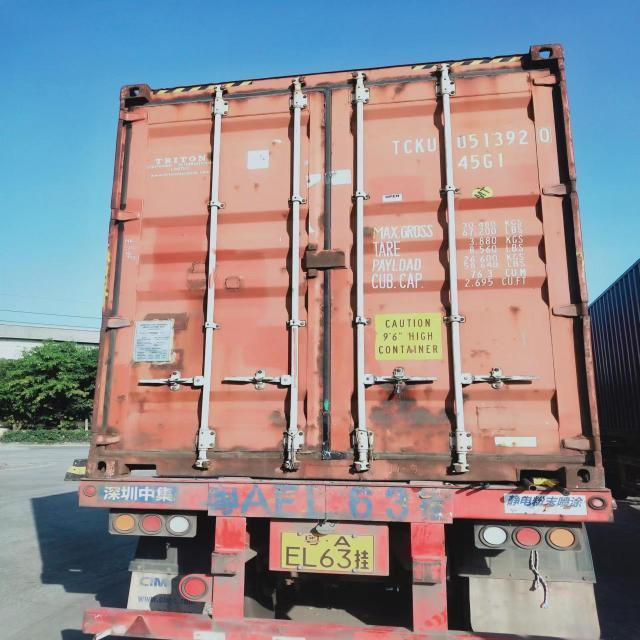ISO: (456, 154, 510, 174)
container_number: (390, 128, 551, 152)
